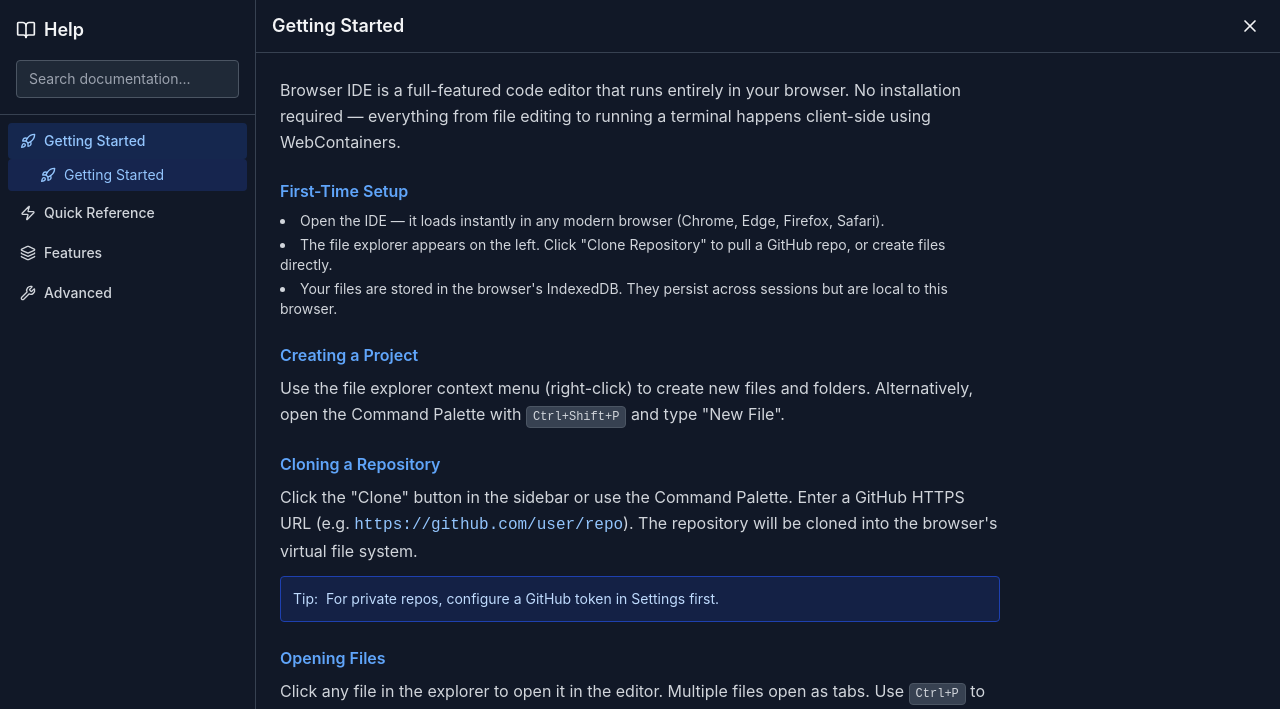
it: HelpPanel - Content Sections › renders Offline Mode content
Click the button "Advanced".
click(128, 293)  # box [8, 275, 247, 311]
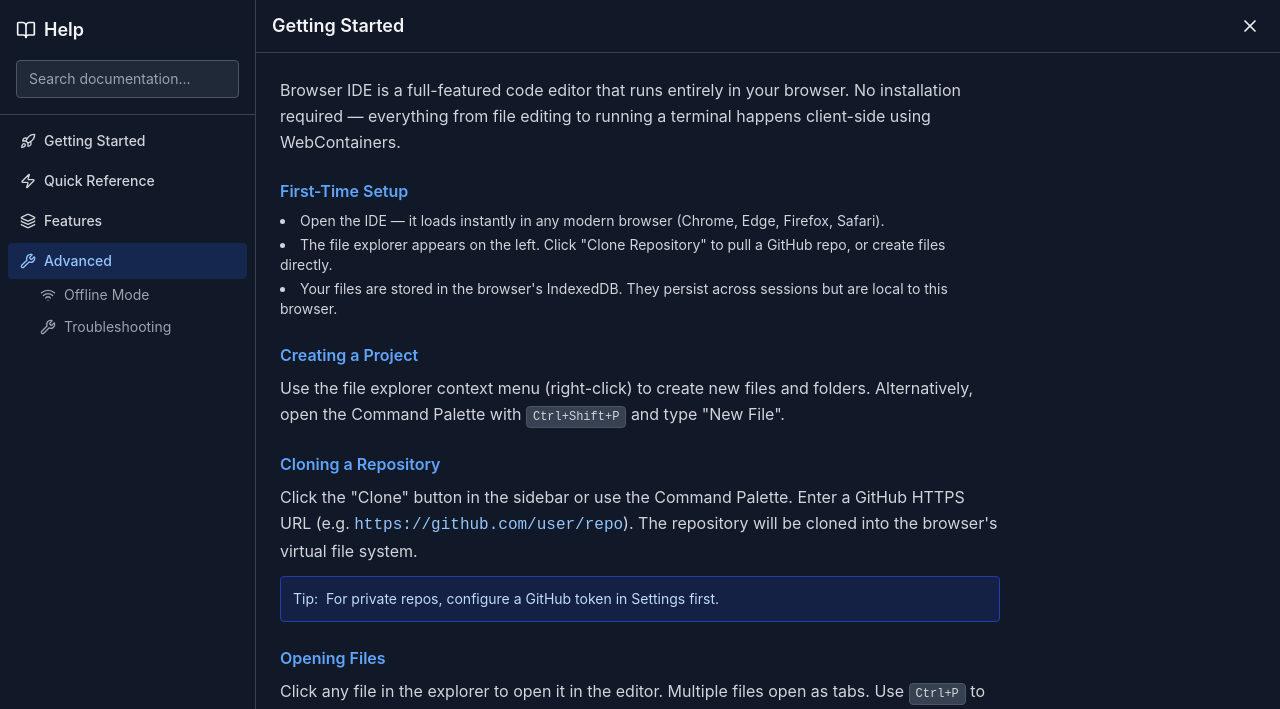
Click the button "Offline Mode".
click(128, 295)  # box [8, 279, 247, 311]
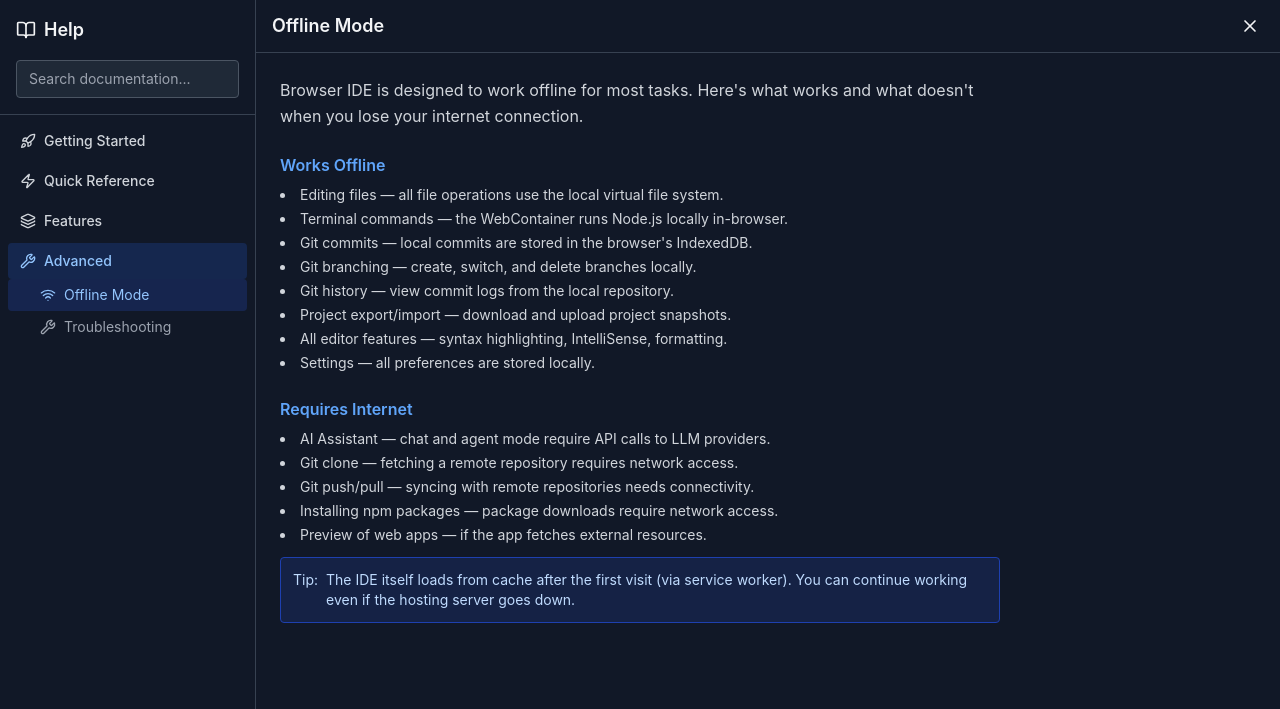
Expected: the heading "Works Offline" is shown, [280, 155, 386, 175]
Expected: the heading "Requires Internet" is shown, [280, 399, 412, 419]
